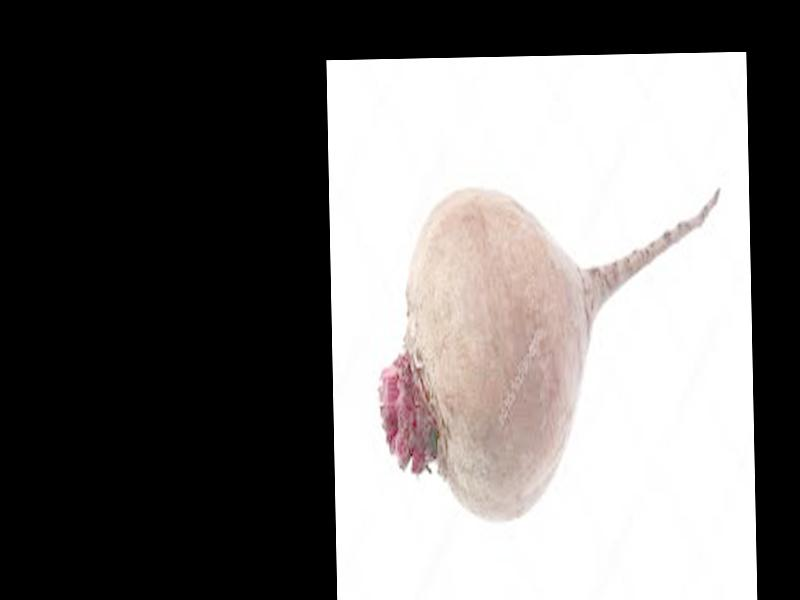Beet: (376, 182, 727, 530)
